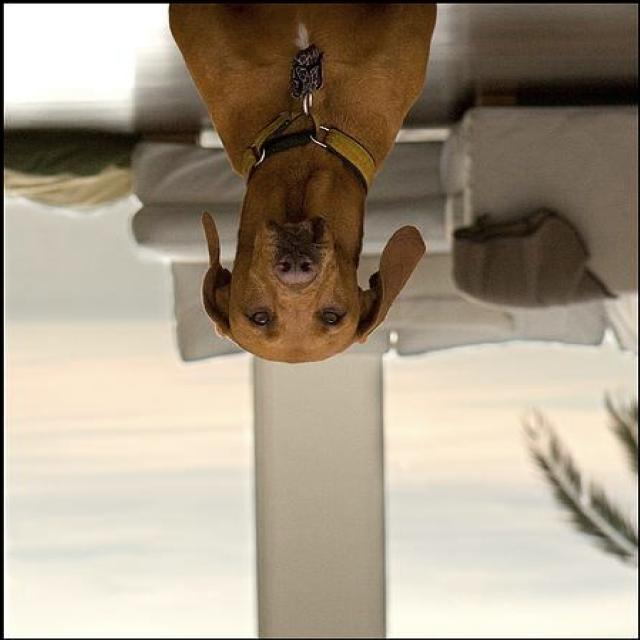vizsla: (163, 2, 439, 370)
